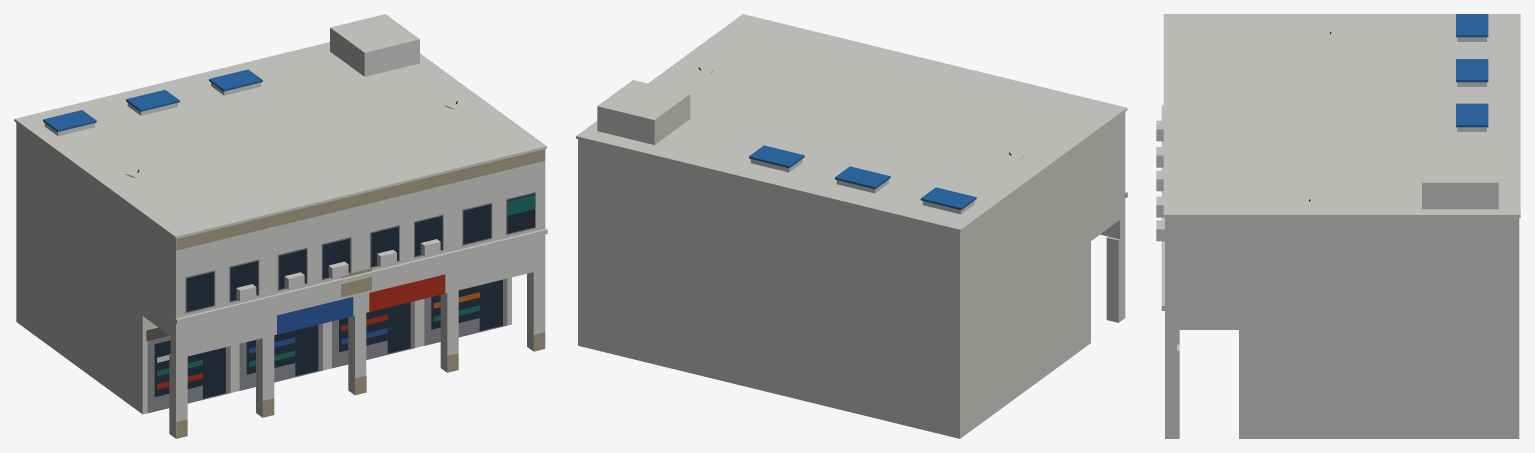
The model's file is building_deira-arcade_c.3ef5c09e35e8.glb.
3 renders of one model, left to right at view 1: azimuth 30°, elevation 25°; view 2: azimuth 150°, elevation 25°; view 3: azimuth 270°, elevation 25°, orthographic. The views are drawn at different scales.
Visible parts, largest first — view 1: body; view 2: body; view 3: body.
Boxes of the visible parts, left/top/right/bottom form: body: left=14, top=14, right=547, bottom=438; body: left=576, top=14, right=1127, bottom=438; body: left=1156, top=14, right=1520, bottom=438.
Bounding box in the file's own units: 16.1 × 9.4 × 12.35.
